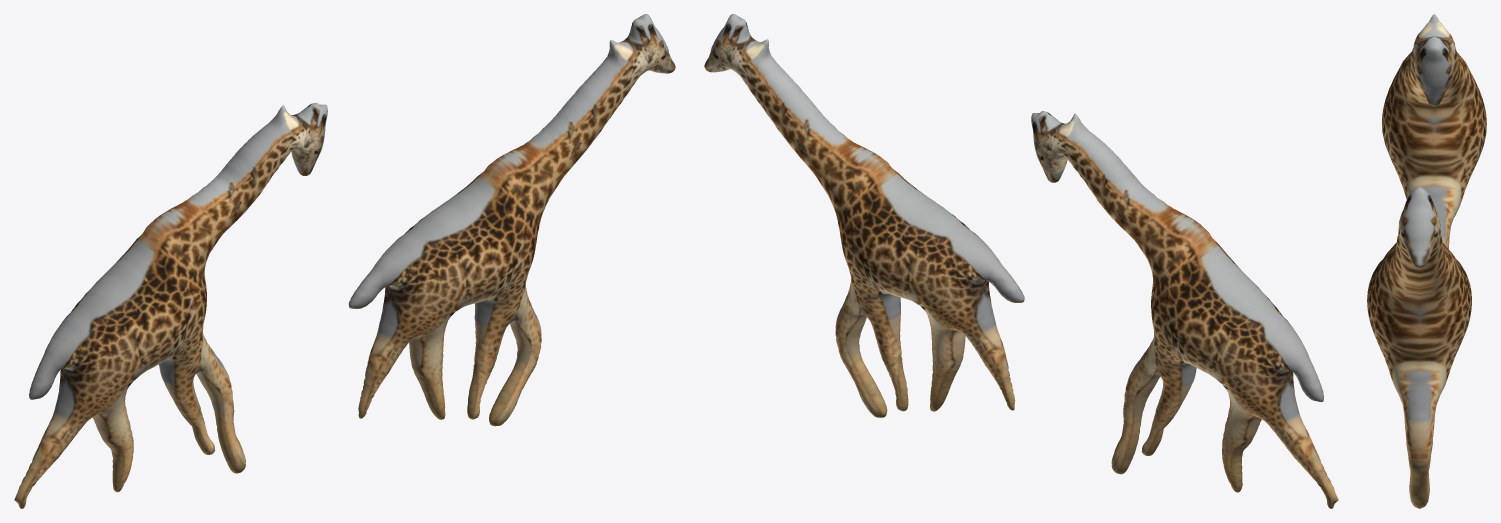
Rendered from asset.glb.
The picture shows the model from 3 angles, left to right: view 1: azimuth 30°, elevation 25°; view 2: azimuth 150°, elevation 25°; view 3: azimuth 270°, elevation 25°; orthographic projection. The views are drawn at different scales.
Size of the model in its own units: 9.07 by 4.98 by 1.36.
1 material, 1 textured.
